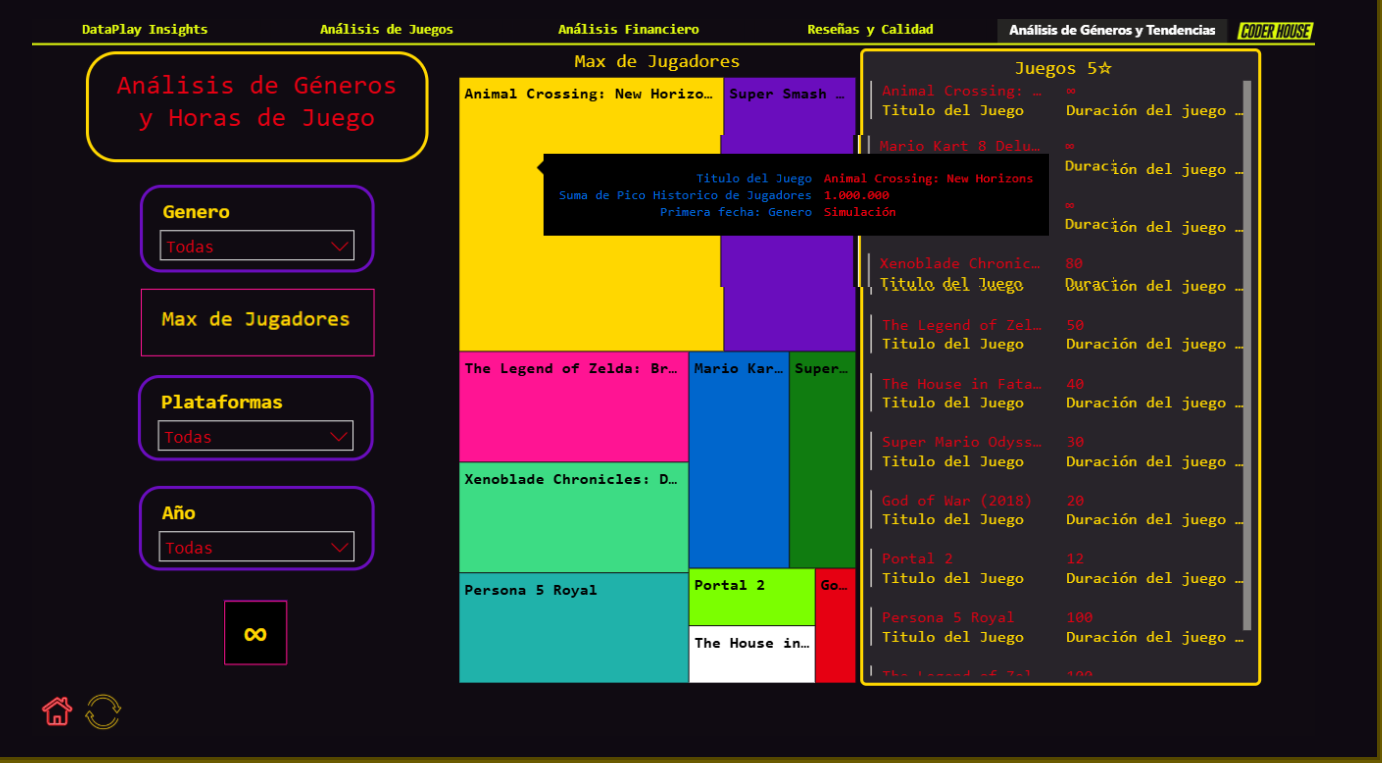

The page's visual inventory and layout, read from the dashboard file:
{"tool":"powerbi","page":{"name":"Análisis de Géneros y Tendencias","canvas":[1280,720],"ordinal":4},"visuals":[{"type":"textbox","box":[56.3,38.6,339.6,109.7],"z":1000},{"type":"image","box":[0,667.7,56.7,52.3],"z":2000},{"type":"image","box":[1192.2,0,87.8,36.4],"z":3000},{"type":"multiRowCard","title":"Juegos 5☆","fields":{"Values":["Tabla Actualizada Normalizada.Titulo del Juego","Tabla Actualizada Normalizada.Duración del juego (hs)"]},"box":[824.5,36,397.9,631.9],"z":4000},{"type":"image","box":[188,576.4,74.5,76.3],"z":6000},{"type":"image","box":[50.5,667.7,46.1,52.3],"z":7000},{"type":"slicer","fields":{"Values":["Tabla Complementaria Reviews.Genero"]},"box":[109.5,171,233.1,87.3],"z":8000},{"type":"slicer","fields":{"Values":["Tabla Plataformas.Plataforma de Juego"]},"box":[108.2,360,234.1,85.1],"z":9000},{"type":"slicer","fields":{"Values":["Tabla Calendario.Año"]},"box":[109.1,470,234.1,84.2],"z":10000},{"type":"pageNavigator","box":[0,0,1192.2,33],"z":11000},{"type":"shape","box":[0,11.9,1279.7,40],"z":12000},{"type":"treemap","title":"Max de Jugadores","fields":{"Values":["Sum(2- Tabla Calidad.Pico Histórico de Jugadores)"],"Group":["1- Tabla DataPlay Insights Normalizada.Titulo del Juego"]},"box":[422.3,37.9,403.4,632],"z":13000},{"type":"image","box":[110.5,274.3,232.4,67.3],"z":14000}]}

Visuals, with their boxes in screenshot pixels (x1, y1, x2, y2), scaled from the page's 1280x720 canvas onto the 1382x763 screenshot:
textbox: {"x1": 61, "y1": 41, "x2": 427, "y2": 157}
image: {"x1": 0, "y1": 708, "x2": 61, "y2": 762}
image: {"x1": 1287, "y1": 0, "x2": 1381, "y2": 39}
"Juegos 5☆" multiRowCard: {"x1": 890, "y1": 38, "x2": 1320, "y2": 708}
image: {"x1": 203, "y1": 611, "x2": 283, "y2": 692}
image: {"x1": 55, "y1": 708, "x2": 104, "y2": 762}
slicer - Tabla Complementaria Reviews.Genero: {"x1": 118, "y1": 181, "x2": 370, "y2": 274}
slicer - Tabla Plataformas.Plataforma de Juego: {"x1": 117, "y1": 382, "x2": 370, "y2": 472}
slicer - Tabla Calendario.Año: {"x1": 118, "y1": 498, "x2": 371, "y2": 587}
pageNavigator: {"x1": 0, "y1": 0, "x2": 1287, "y2": 35}
shape: {"x1": 0, "y1": 13, "x2": 1381, "y2": 55}
"Max de Jugadores" treemap: {"x1": 456, "y1": 40, "x2": 891, "y2": 710}
image: {"x1": 119, "y1": 291, "x2": 370, "y2": 362}
